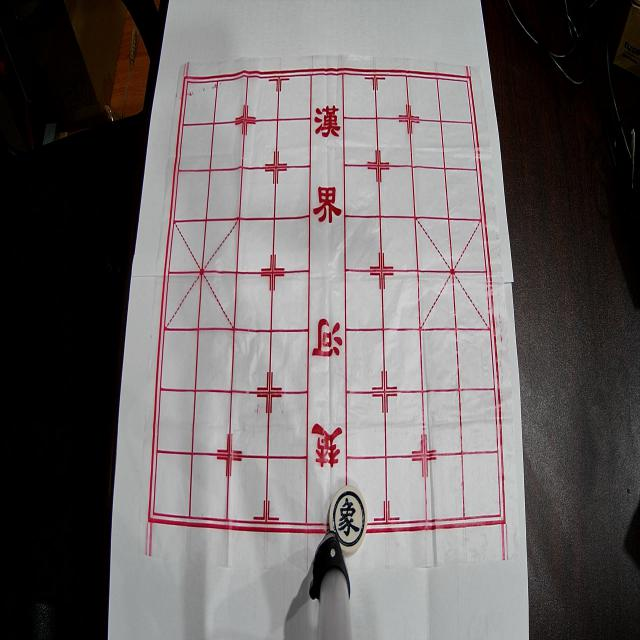black-elephant: (329, 486, 367, 552)
